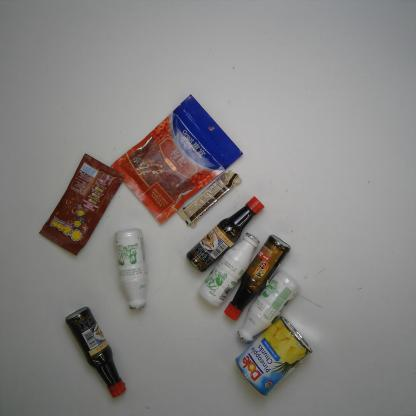Candy: (37, 150, 127, 258)
Canned Food: (234, 315, 314, 398)
Chocolate: (175, 167, 242, 229)
Dried Fruit: (108, 91, 244, 226)
Milk: (196, 231, 260, 310), (235, 270, 300, 346), (112, 226, 151, 314)
Seasoner: (185, 194, 266, 274), (63, 305, 128, 400), (223, 234, 291, 322)
